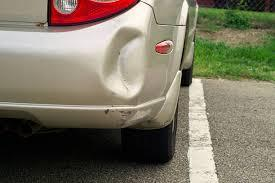dent: (97, 22, 152, 106)
